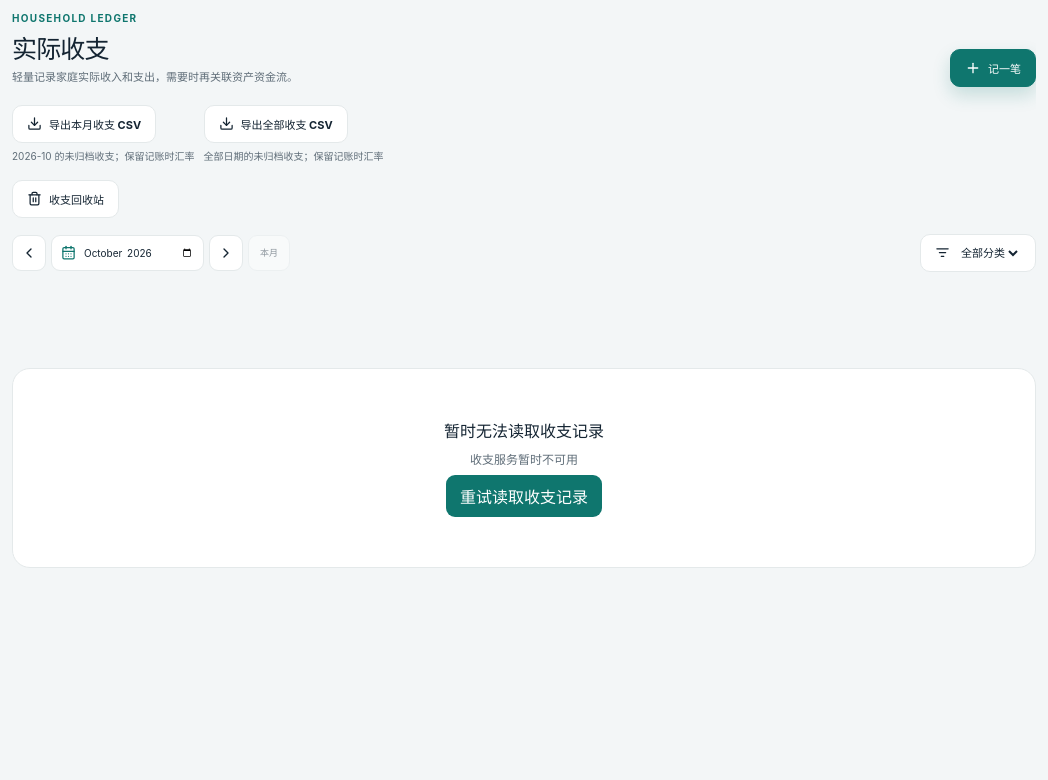
Test: data loading feedback › does not show zero totals or no records when transaction loading fails, then restores the empty state
Expected: the message shows "收支服务暂时不可用", [470,452,578,467]
Expected: the text "该月收入" is not shown
Click the button "重试读取收支记录": [524, 496] box [446,475,602,517]
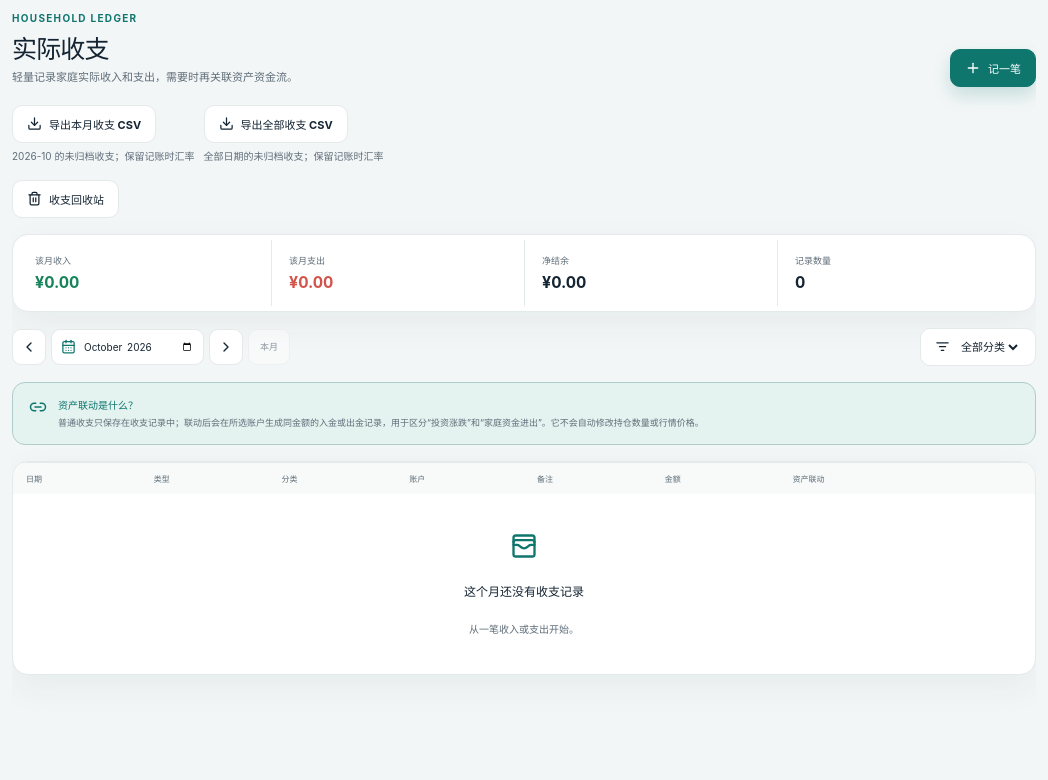
Expected: the text "这个月还没有收支记录" is shown, [464,582,584,599]
Expected: the text "该月收入" is shown, [35,255,71,266]
